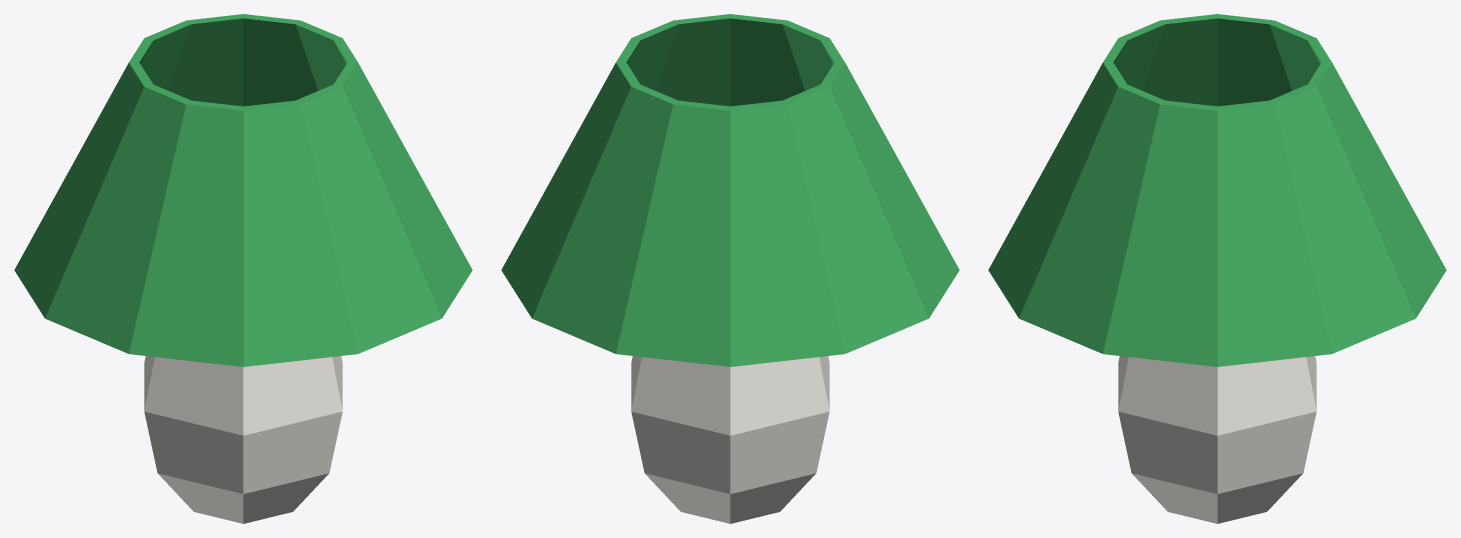
Rendered from Lampe_Chevet.fbx.
3 renders of one model, left to right at view 1: azimuth 30°, elevation 25°; view 2: azimuth 150°, elevation 25°; view 3: azimuth 270°, elevation 25°, orthographic.
Parts seen in each view (by area): view 1: Bed_Lamp; view 2: Bed_Lamp; view 3: Bed_Lamp.
Part boxes in pixels (<box>): Bed_Lamp: <box>14,14,472,523</box>; Bed_Lamp: <box>501,14,959,523</box>; Bed_Lamp: <box>988,14,1446,523</box>.
Bounding box in the file's own units: 30 × 31.58 × 30.
